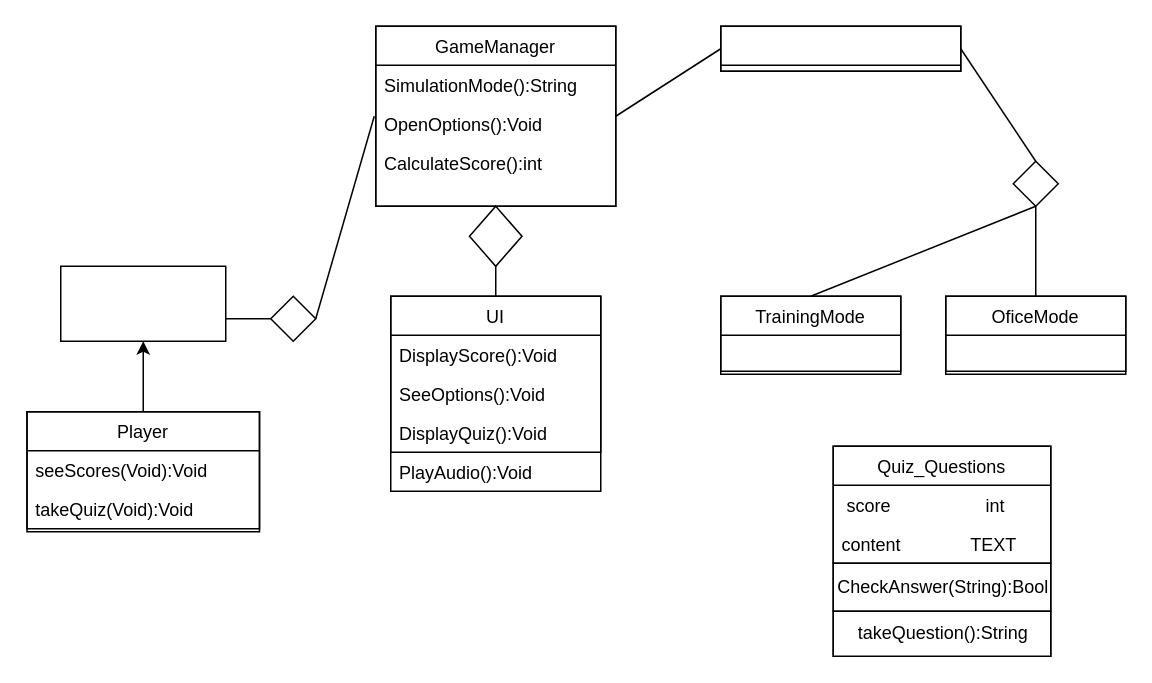
Some shapes in this 1152 by 683 pixel diagram are drawn without their labels. The shapes that lost their labels are listed below. From the top down, each one's centre as x and y in pixels, then its label:
At (x=840, y=48): "SimulationMode".
At (x=142, y=303): "User".
At (x=810, y=333): "TakeTraining():Void".
At (x=1035, y=333): "trainingCheck():Bool".
